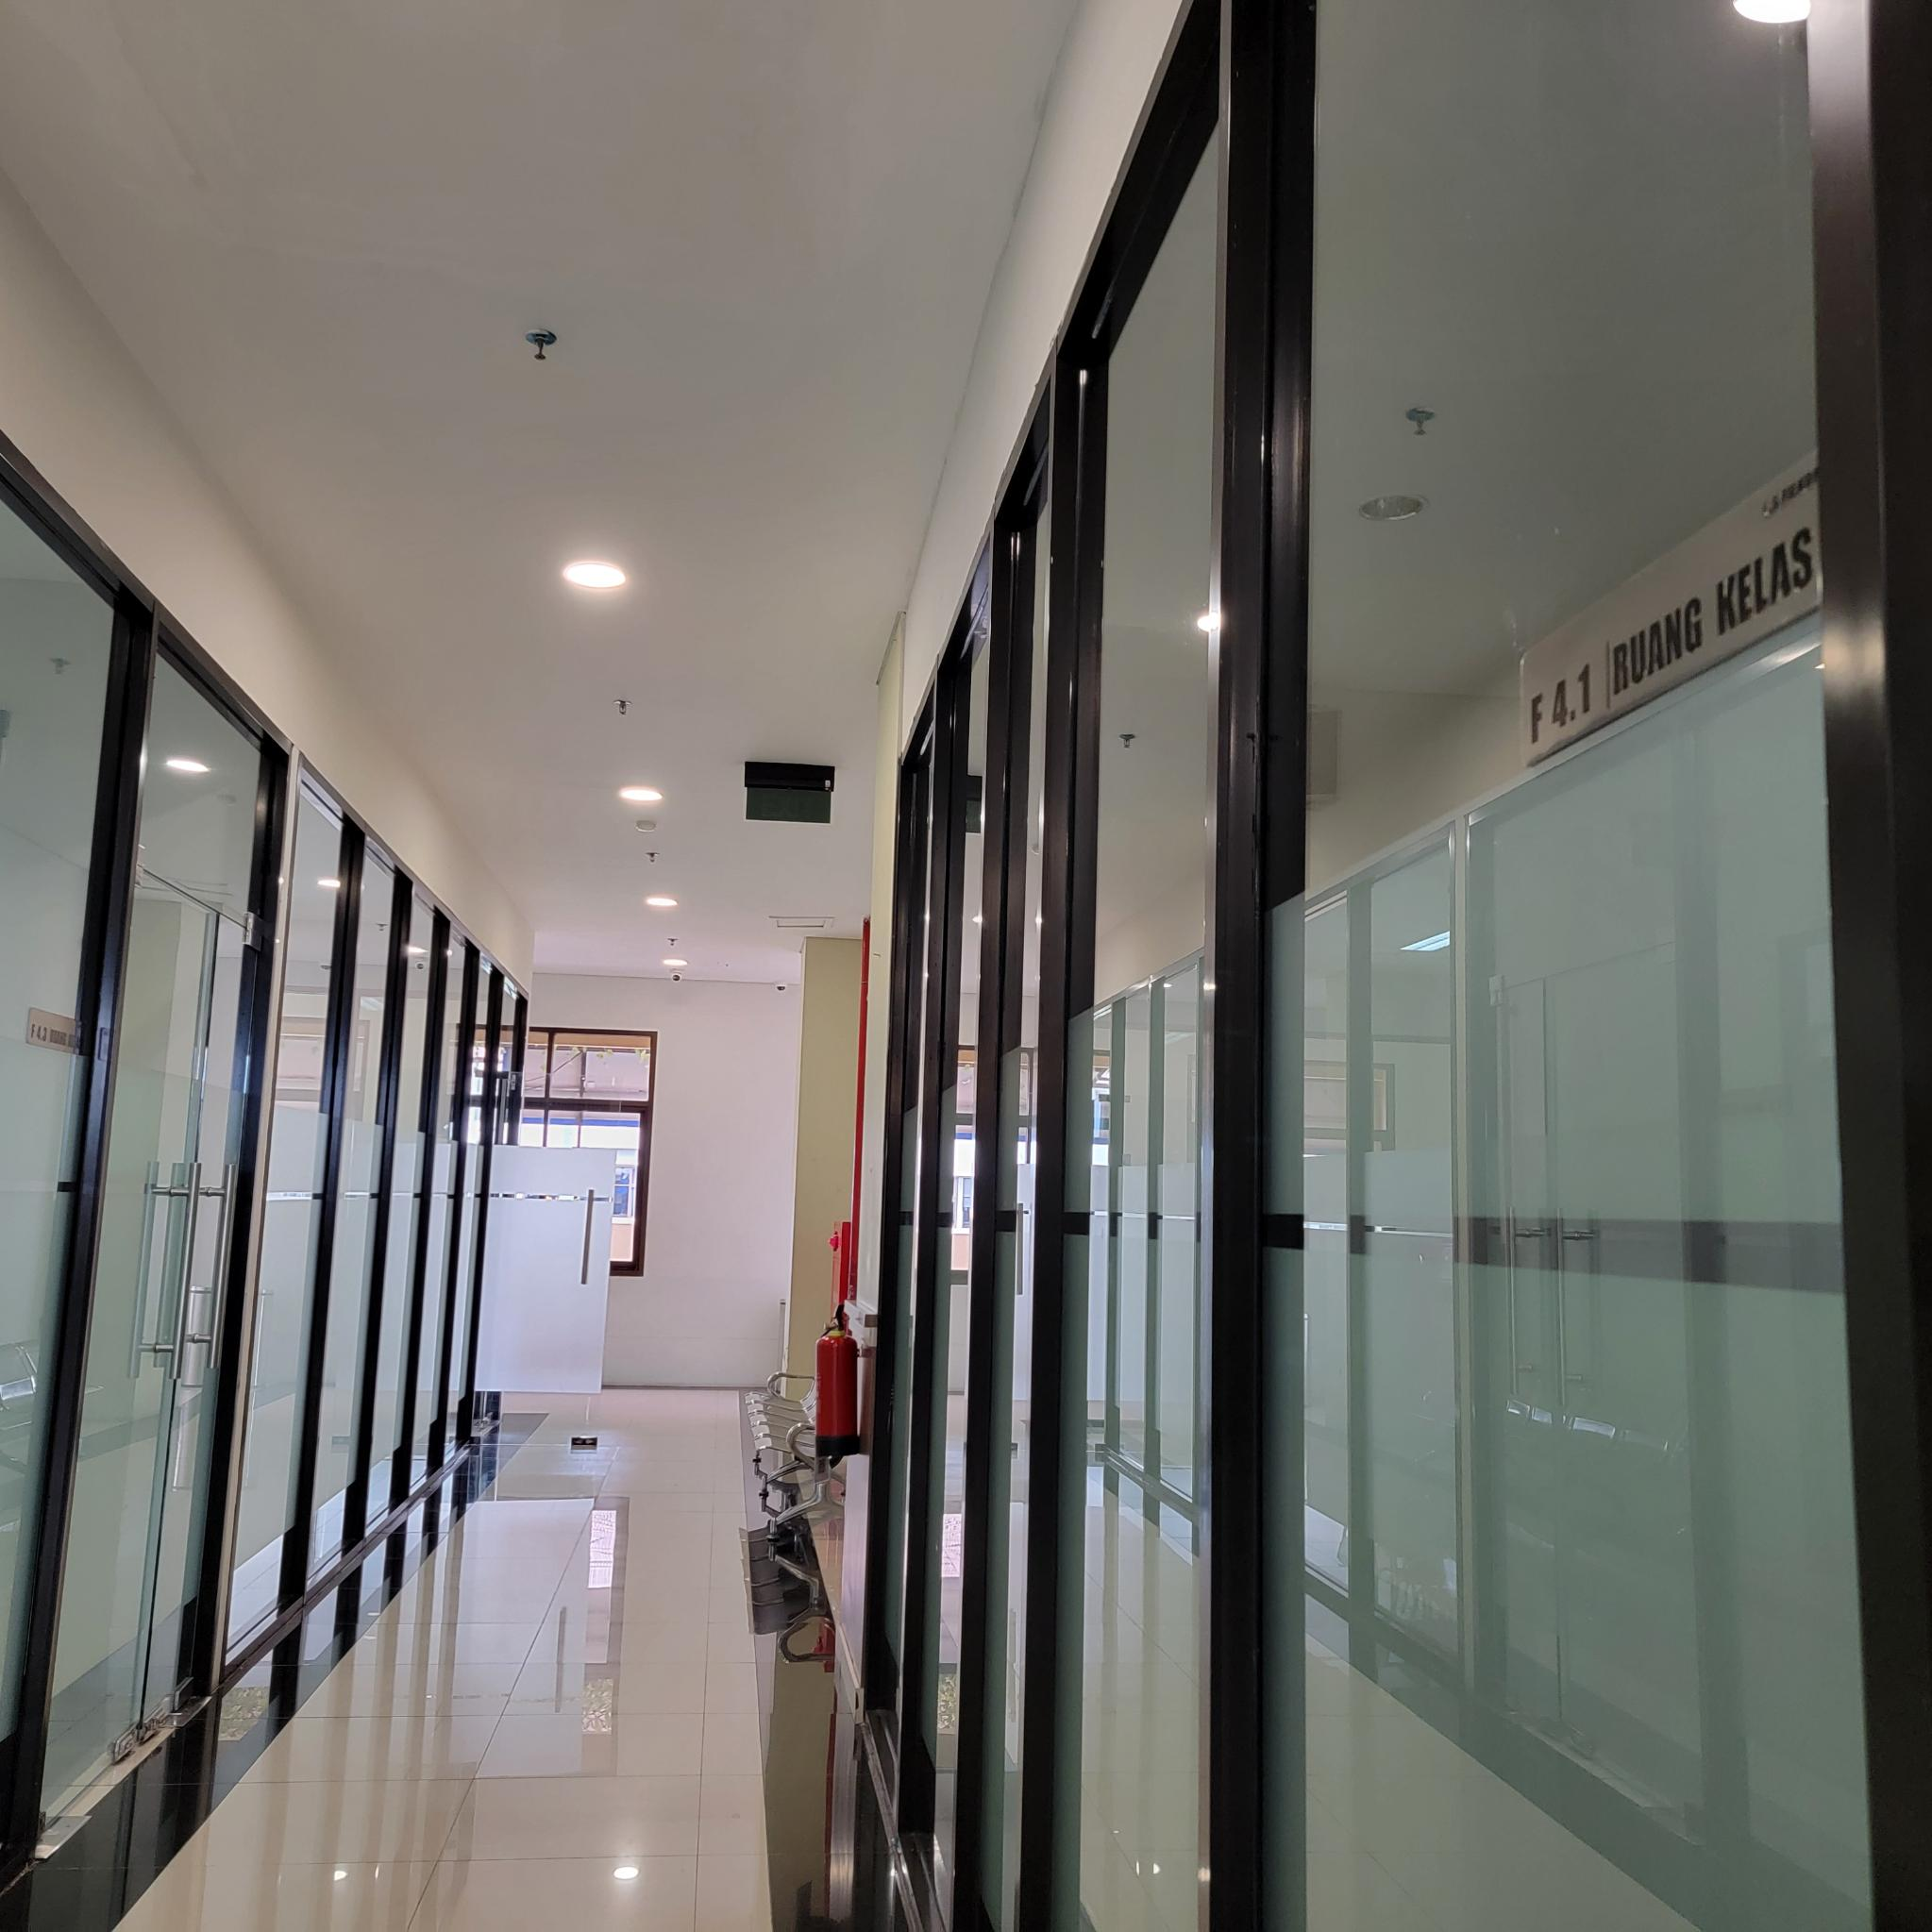plate: (1518, 448, 1824, 771)
